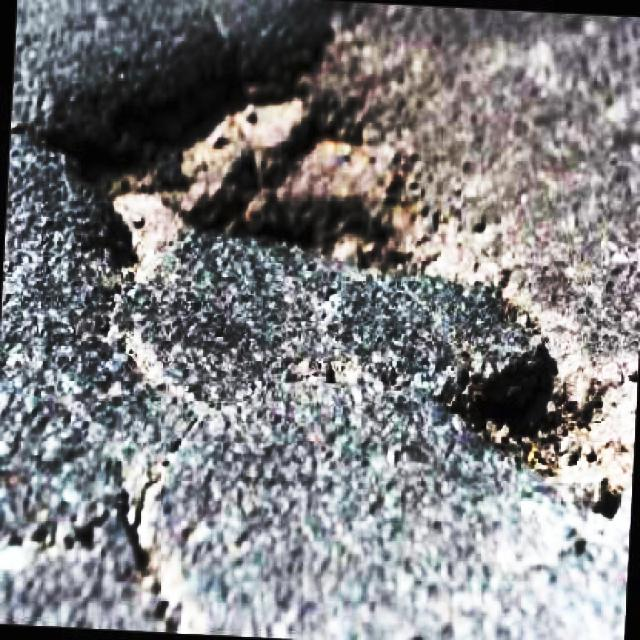pothole: (26, 21, 640, 518)
